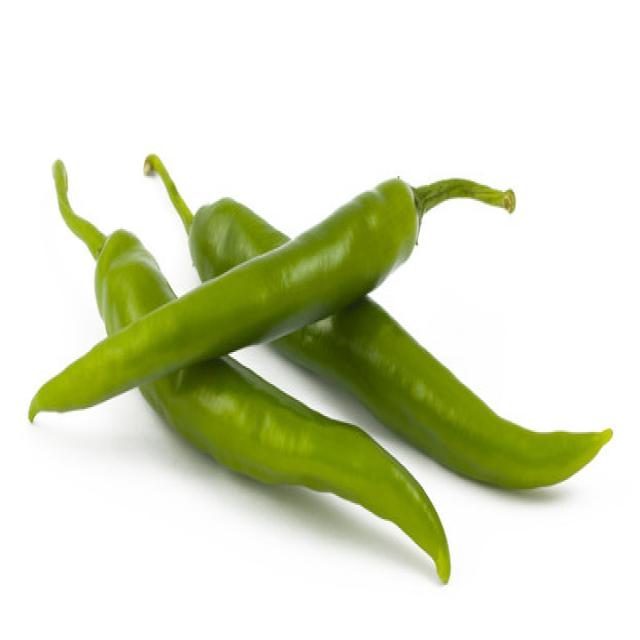Chilli: (28, 160, 516, 425), (137, 350, 451, 583), (269, 293, 613, 489)
